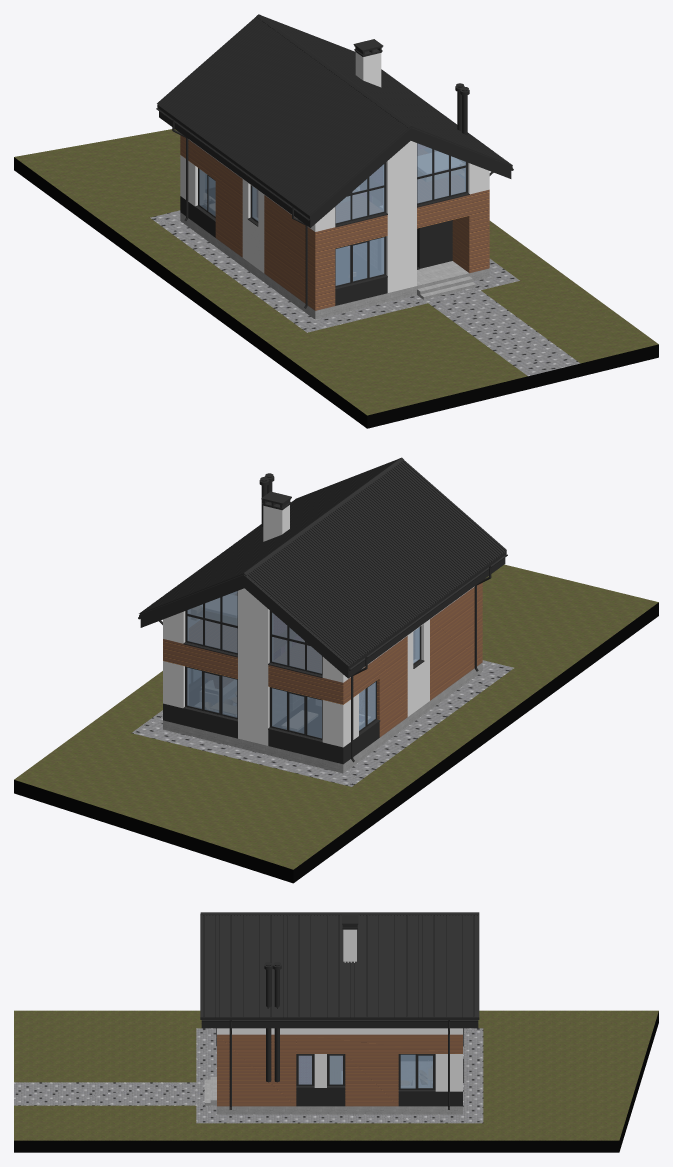
The model's file is ижд ВАСИЛЬКОВО.fbx.
The picture shows the model from 3 angles, top to bottom: view 1: azimuth 30°, elevation 25°; view 2: azimuth 150°, elevation 25°; view 3: azimuth 270°, elevation 25°; orthographic projection. The views are drawn at different scales.
Parts seen in each view (by area): view 1: Трава - Коричневая, Краска - Антрацит, Обшивка - рыжая О2-90, Бетон - 10, HAG Black Ultra, Краска - Белила Титановые, Стекло - Голубое, Фальцевая кровля, Потолок - Плитка 60x120, Краска-04, Краска - Глянцевая Белая; view 2: Трава - Коричневая, Краска - Антрацит, Обшивка - рыжая О2-90, Краска - Белила Титановые, HAG Black Ultra, Стекло - Голубое, Бетон - 10, Фальцевая кровля, Потолок - Плитка 60x120, Краска-04, Краска - Глянцевая Белая; view 3: Трава - Коричневая, Краска - Антрацит, Обшивка - рыжая О2-90, Бетон - 10, HAG Black Ultra, Фальцевая кровля, Краска - Белила Титановые, Потолок - Плитка 60x120, Краска-04, Стекло - Голубое, Краска - Глянцевая Белая, Дерево - Сосна Продольная Горизонтальная (+1 smaller).
Part boxes in pixels (x1,y1,x2,y2): Трава - Коричневая: (14,129,658,415); Краска - Антрацит: (157,16,512,305); Обшивка - рыжая О2-90: (180,135,489,310); Бетон - 10: (150,210,580,376); HAG Black Ultra: (14,157,658,428); Краска - Белила Титановые: (180,139,489,292); Стекло - Голубое: (199,143,465,285); Фальцевая кровля: (157,14,512,227); Потолок - Плитка 60x120: (180,212,489,319); Краска-04: (156,39,513,308); Краска - Глянцевая Белая: (355,52,381,87); Трава - Коричневая: (14,564,658,869); Краска - Антрацит: (139,459,506,764); Обшивка - рыжая О2-90: (163,583,482,737); Краска - Белила Титановые: (163,586,474,747); HAG Black Ultra: (14,602,658,883); Стекло - Голубое: (187,591,419,738); Бетон - 10: (131,660,513,786); Фальцевая кровля: (139,457,506,678); Потолок - Плитка 60x120: (163,662,482,773); Краска-04: (138,473,507,762); Краска - Глянцевая Белая: (263,505,359,730); Трава - Коричневая: (14,1010,658,1140); Краска - Антрацит: (200,914,479,1106); Обшивка - рыжая О2-90: (217,1034,462,1106); Бетон - 10: (14,1028,483,1123); HAG Black Ultra: (14,1011,658,1152); Фальцевая кровля: (200,912,479,1028); Краска - Белила Титановые: (217,1028,462,1091); Потолок - Плитка 60x120: (204,1062,462,1114); Краска-04: (201,914,478,1109); Стекло - Голубое: (298,1054,432,1088); Краска - Глянцевая Белая: (343,929,356,962); Дерево - Сосна Продольная Горизонтальная: (330,1056,432,1084).
Bounding box in the file's own units: 1500 × 3146 × 1002.
30 materials, 15 textured.
